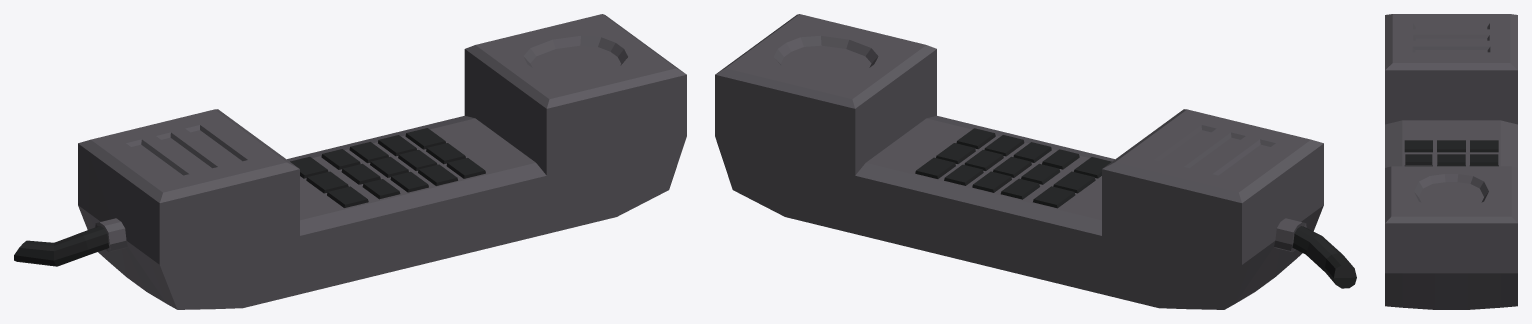
File: Telephone.fbx
3 renders of one model, left to right at view 1: azimuth 30°, elevation 25°; view 2: azimuth 150°, elevation 25°; view 3: azimuth 270°, elevation 25°, orthographic. The views are drawn at different scales.
Parts seen in each view (by area): view 1: telephone; view 2: telephone; view 3: telephone.
Boxes of the visible parts, x1,y1,x2,y2 form: telephone: [14, 14, 686, 309]; telephone: [715, 14, 1356, 309]; telephone: [1385, 14, 1517, 309].
Size of the model in its own units: 1.13 by 0.2363 by 0.26.
